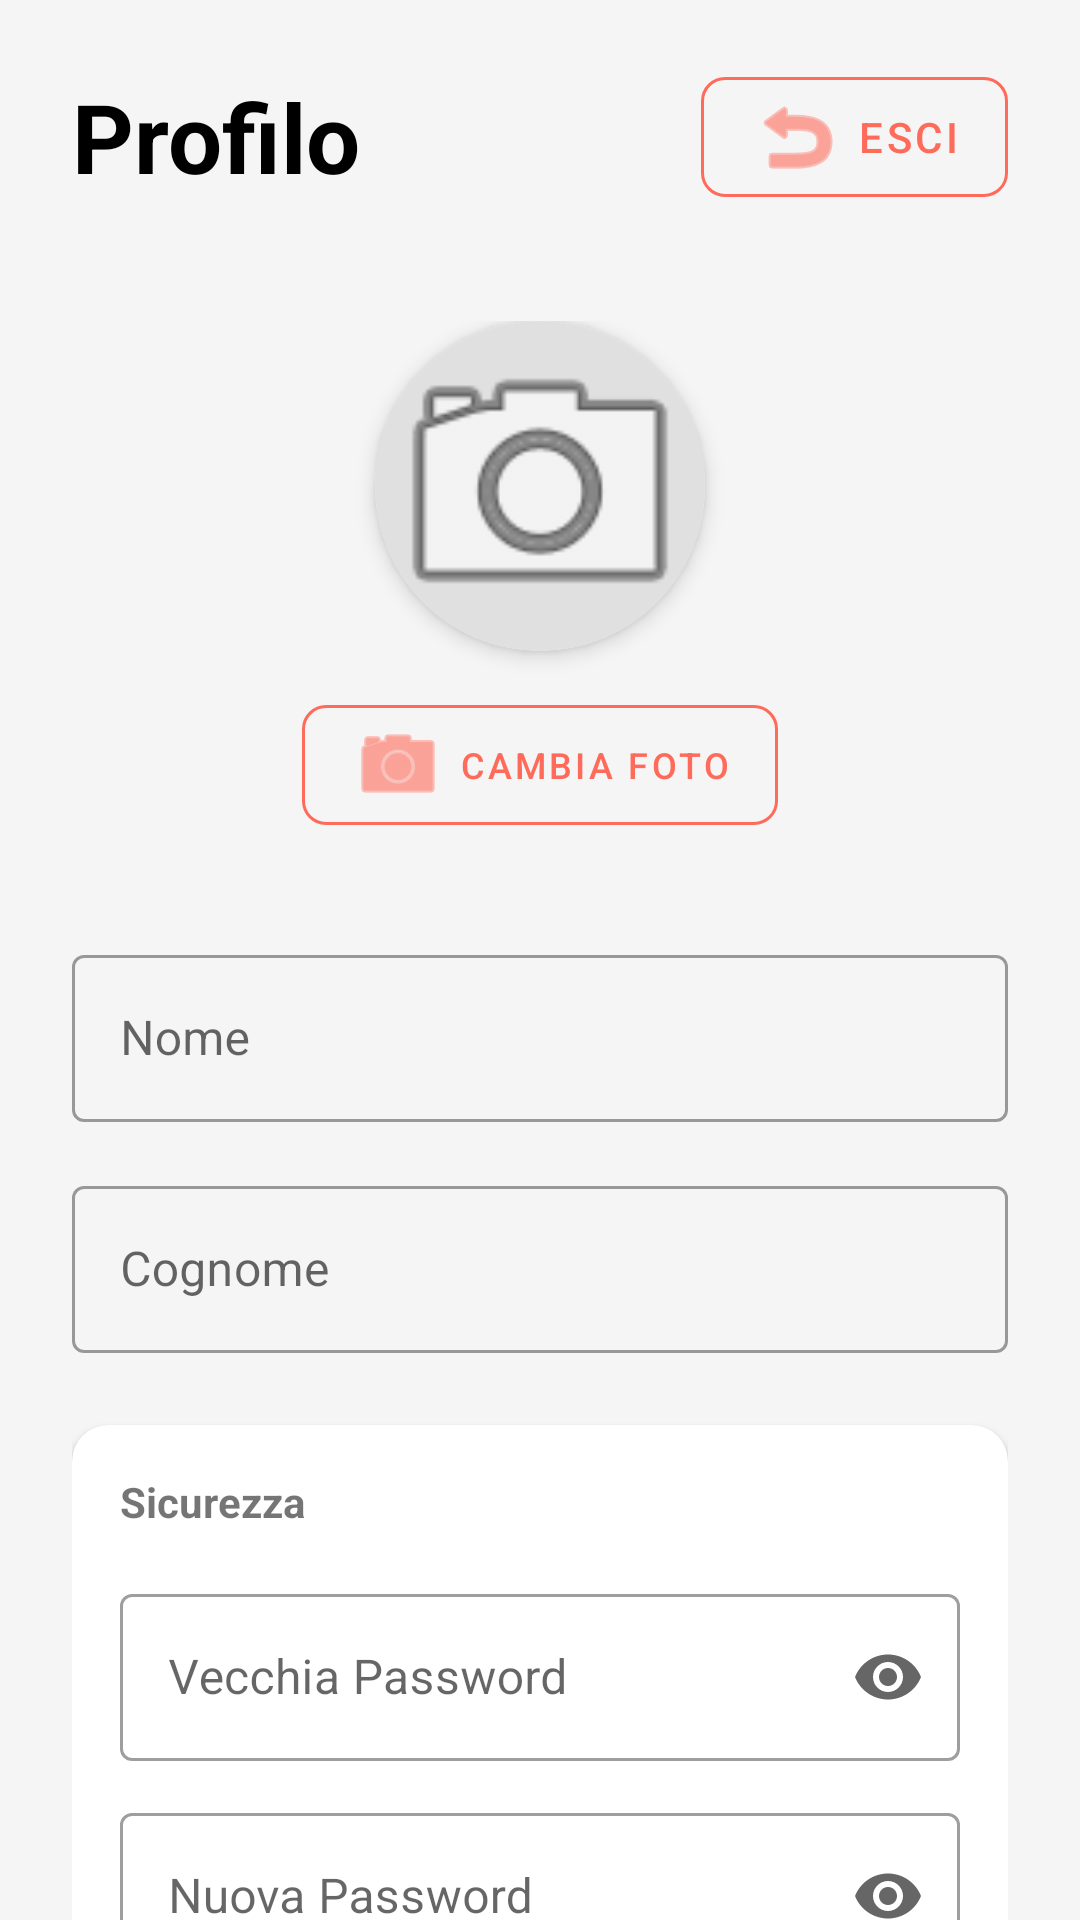

Where icons sit on this 1080 x 1920 app screen, as (x1, y1, x2, y2):
camera: (375, 378, 705, 651)
